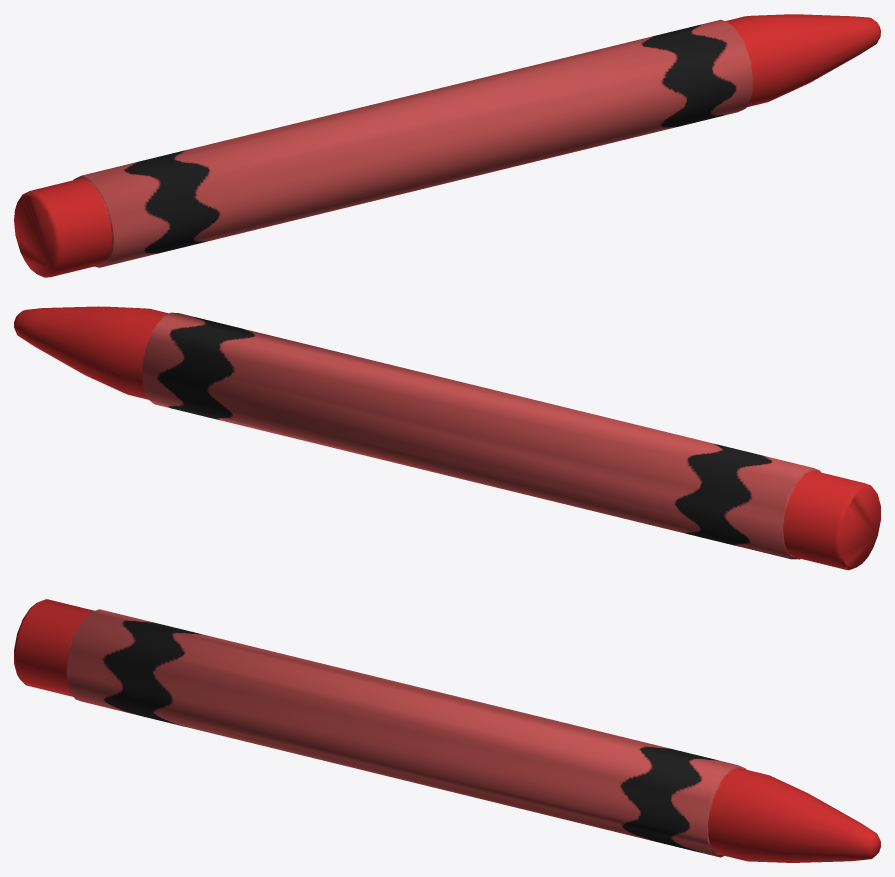
The model's file is RedCrayon.glb.
3 views of the same model, one above another, from view 1: azimuth 30°, elevation 25°; view 2: azimuth 150°, elevation 25°; view 3: azimuth 330°, elevation 25° (orthographic).
Parts seen in each view (by area): view 1: SM_CrayonRed; view 2: SM_CrayonRed; view 3: SM_CrayonRed.
Part boxes in pixels (x1,y1,x2,y2): SM_CrayonRed: [14, 14, 880, 277]; SM_CrayonRed: [14, 306, 880, 570]; SM_CrayonRed: [14, 599, 880, 862].
Size of the model in its own units: 0.092 by 0.00894 by 0.00894.
1 material, 1 textured.
